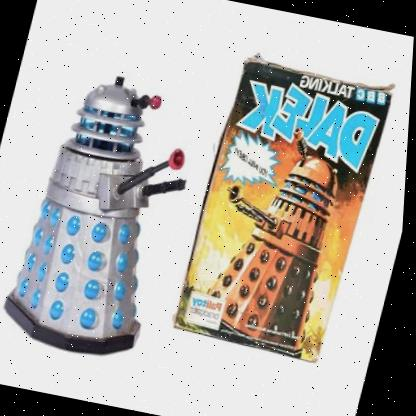dalek: (0, 47, 227, 390)
